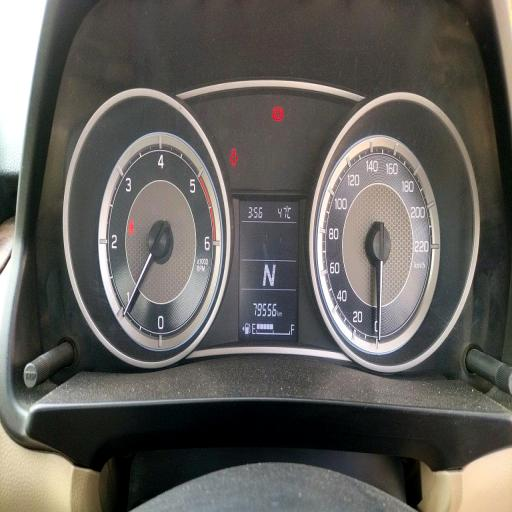brake_system_fault: (273, 107, 284, 122)
tachometer: (98, 128, 224, 351)
